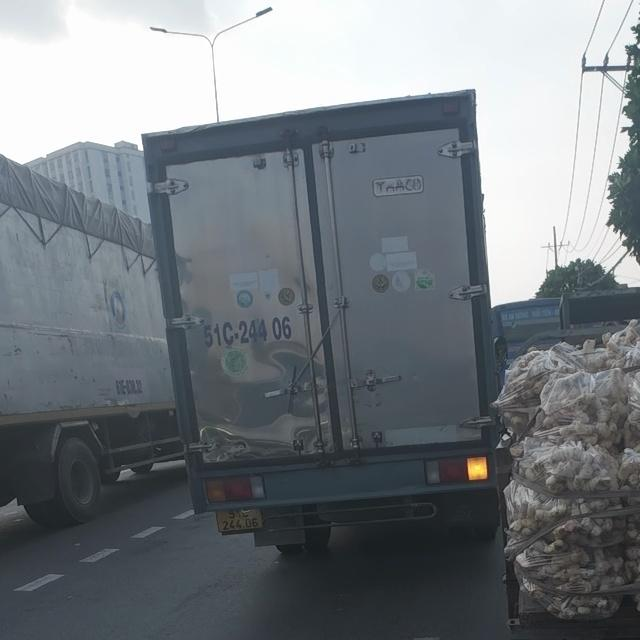license-plate: (216, 507, 264, 534)
